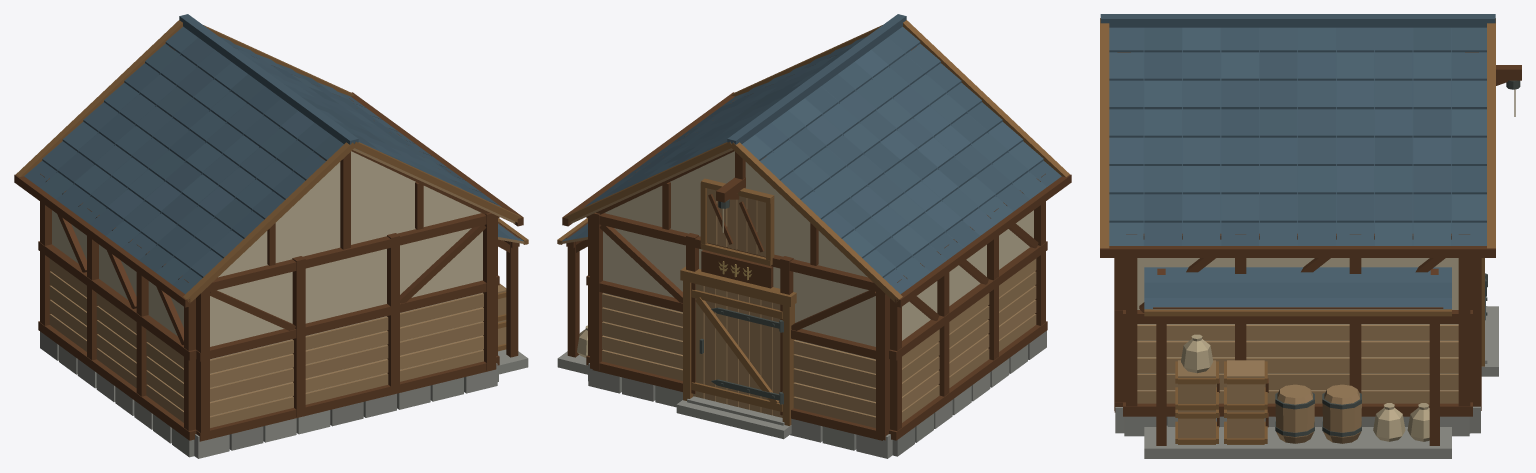
The model's file is StorageHall.glb.
3 views of the same model, side by side, from view 1: azimuth 30°, elevation 25°; view 2: azimuth 150°, elevation 25°; view 3: azimuth 270°, elevation 25° (orthographic). The views are drawn at different scales.
Visible parts, largest first — view 1: StorageHallBody; view 2: StorageHallBody, StorageHallDoor; view 3: StorageHallBody.
Boxes of the visible parts, left/top/right/bottom form: StorageHallBody: left=14, top=14, right=528, bottom=458; StorageHallBody: left=557, top=14, right=1071, bottom=458; StorageHallDoor: left=691, top=284, right=783, bottom=417; StorageHallBody: left=1100, top=14, right=1521, bottom=458.
Size of the model in its own units: 8.44 by 6.42 by 7.35.
